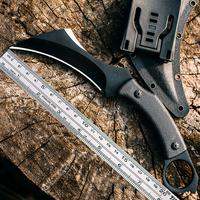knife: (9, 22, 183, 146)
